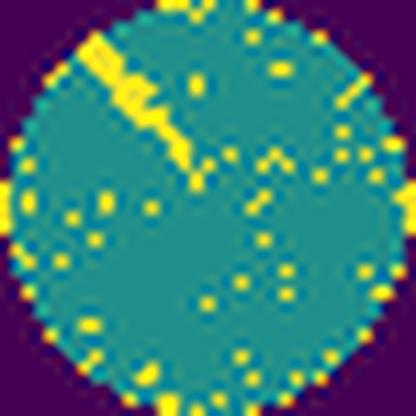Loc: (79, 31, 206, 188)
